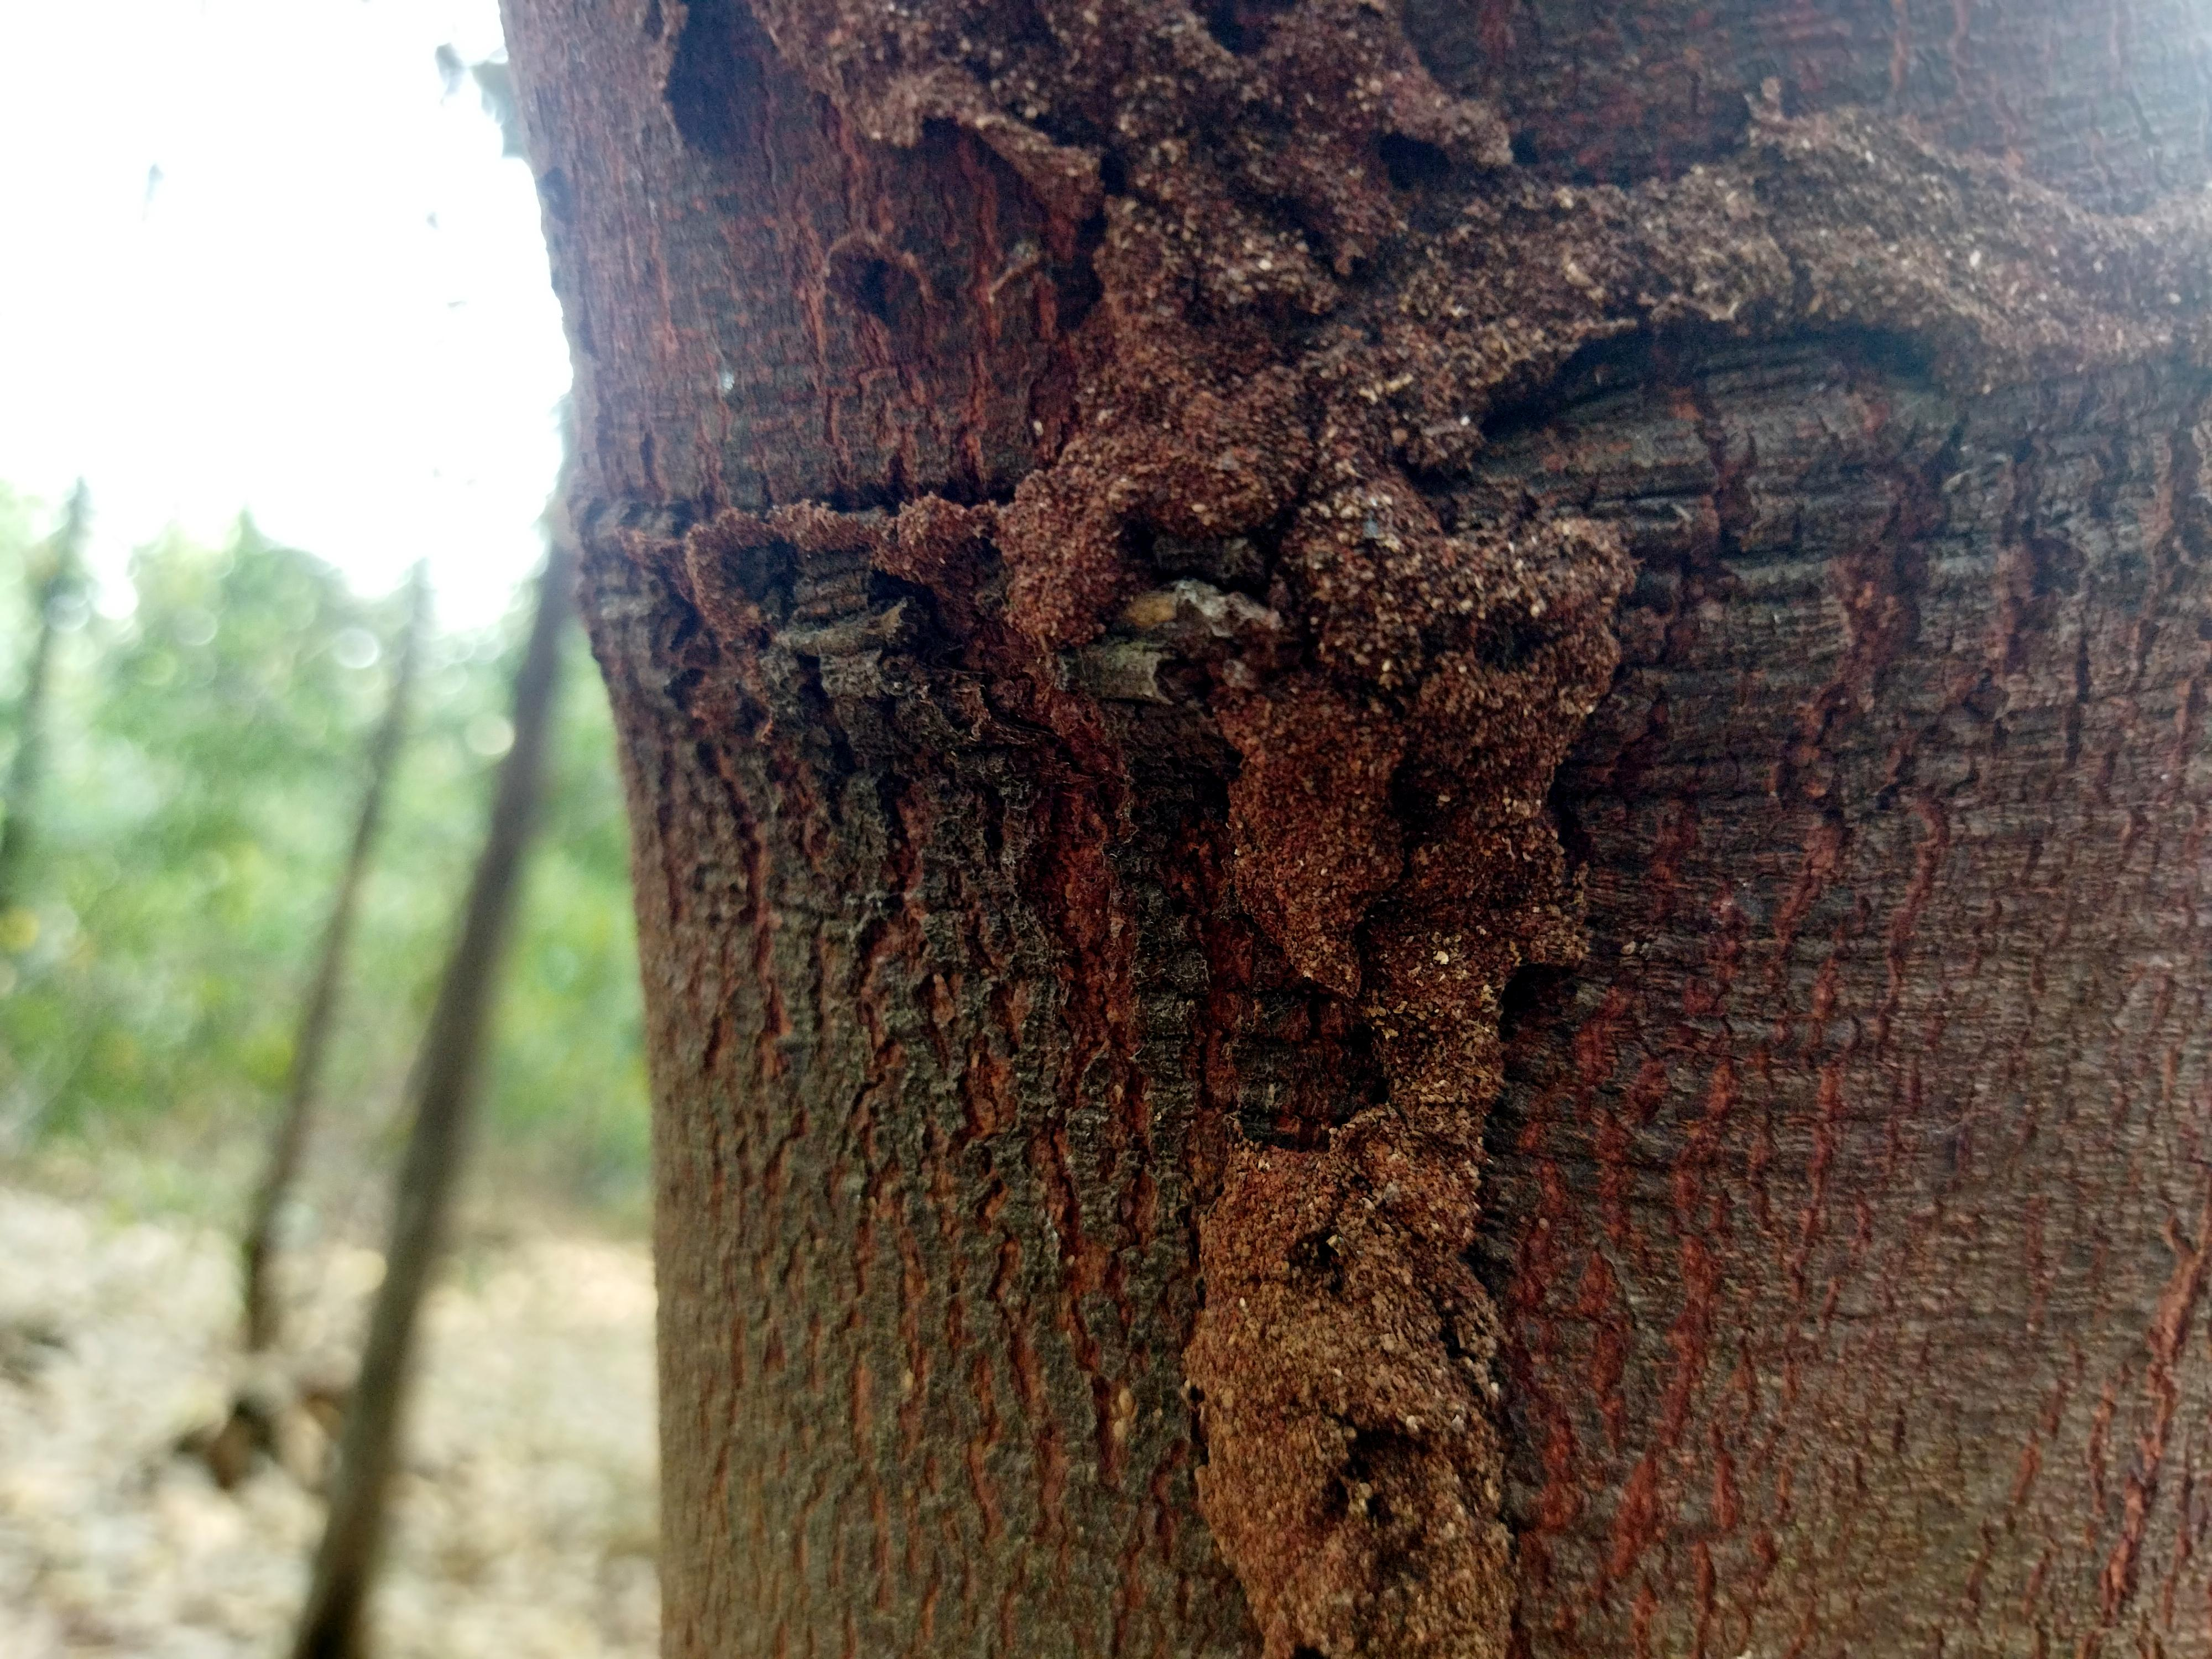Termite - Nest: (813, 2, 2212, 1659)
